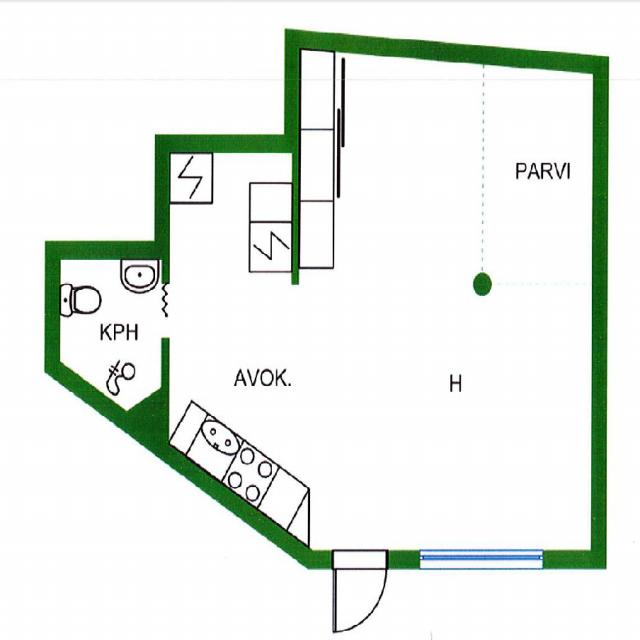door: (333, 549, 386, 632)
